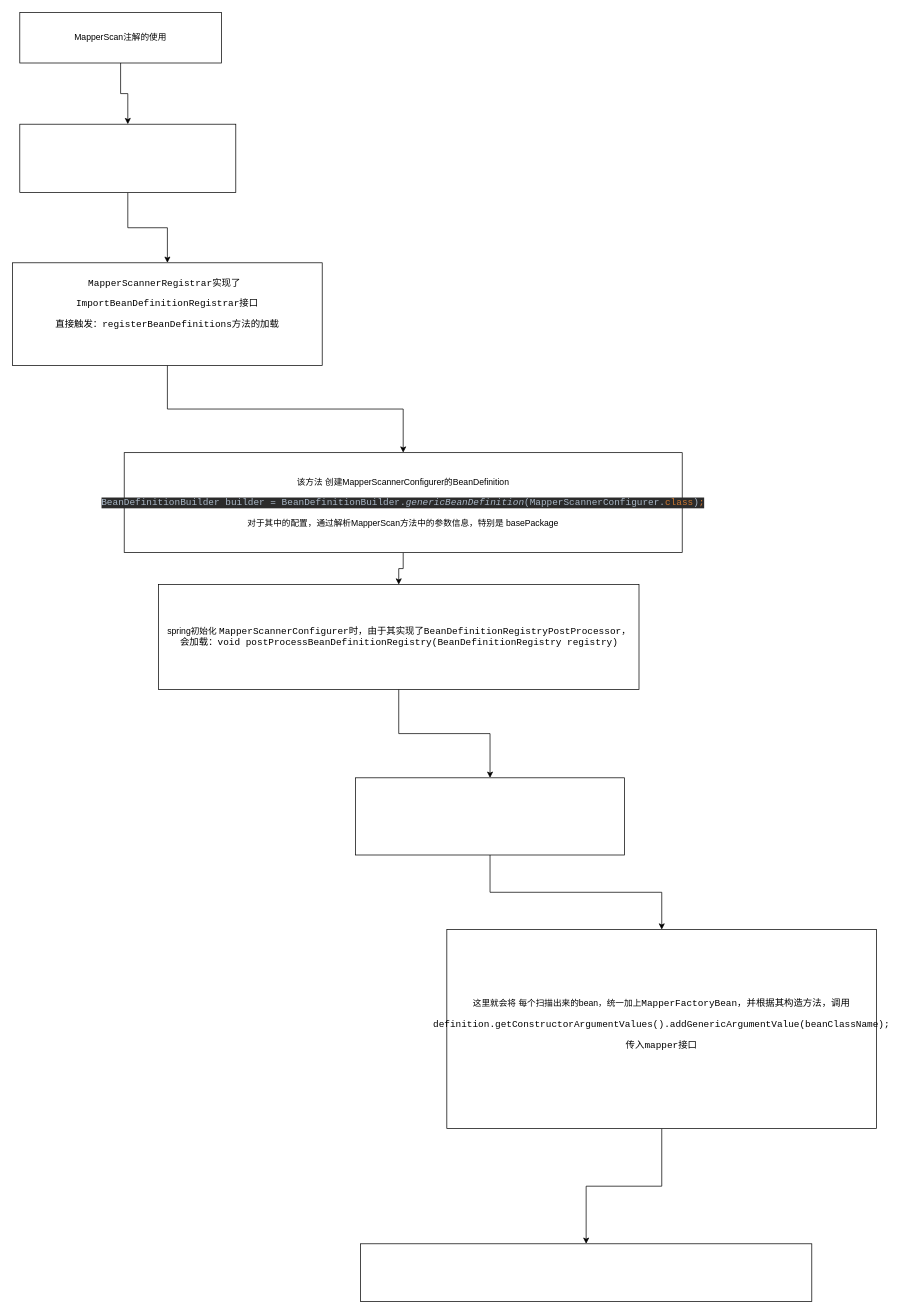
The diagram is 903 pixels wide and 1314 high, and some of its shapes have lost their labels. The centre of each missing label's shape, as x and y in pixels:
"MapperFactoryBean中的getObject（）最终返回的就是 mapper接口的代理对象" belongs at (x=586, y=1272).
"最终通过 实例化： ClassPathMapperScanner，调用其中的scan方法，最终走到该方法中的 doScan方法" belongs at (x=490, y=816).
"触发 @Import(MapperScannerRegistrar.class)" belongs at (x=127, y=158).
